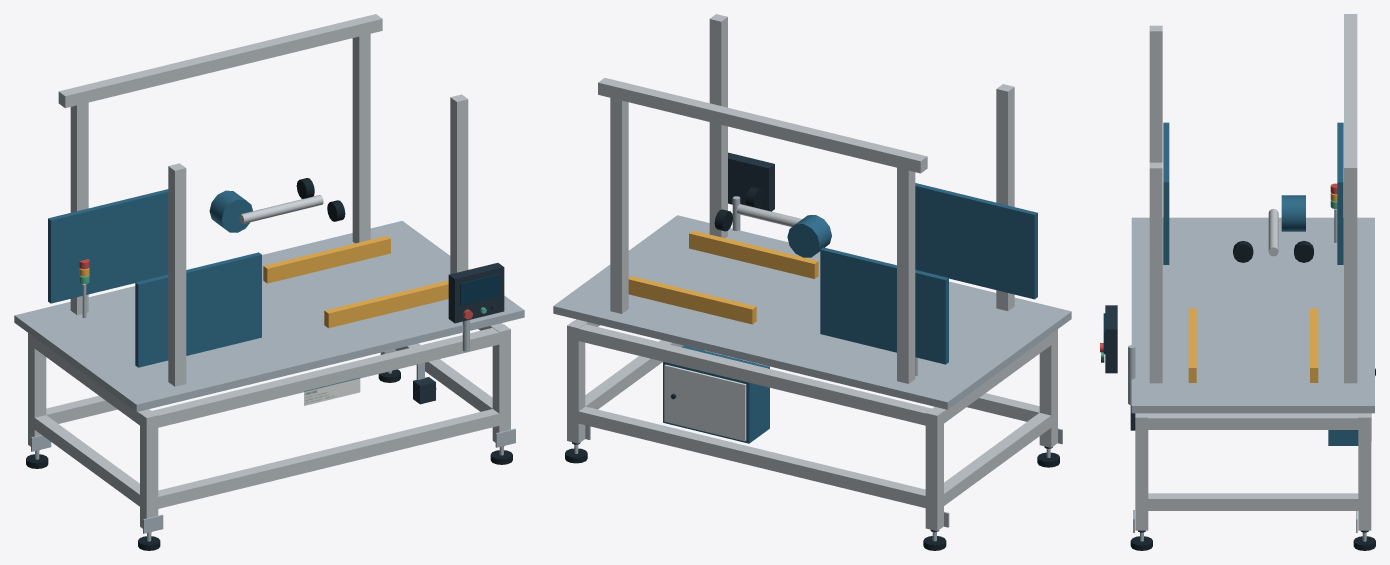
The model's file is carton-erector.glb.
The picture shows the model from 3 angles, left to right: view 1: azimuth 30°, elevation 25°; view 2: azimuth 150°, elevation 25°; view 3: azimuth 270°, elevation 25°; orthographic projection. The views are drawn at different scales.
Parts seen in each view (by area): view 1: Worktop_31, BlankMagazine_37, BlankMagazine_38, Extrusion_22, Extrusion_23, Extrusion_36, Extrusion_33, Extrusion_34, Extrusion_35, Extrusion_24, LowerFlapGuide_43, LowerFlapGuide_44 (+12 smaller); view 2: Worktop_31, BlankMagazine_38, BlankMagazine_37, Extrusion_20, Extrusion_21, Extrusion_36, BackAccessDoor_29, Extrusion_34, Extrusion_32, Extrusion_35, Extrusion_24, Extrusion_33 (+12 smaller); view 3: Worktop_31, Extrusion_26, Extrusion_27, Extrusion_35, Extrusion_34, Extrusion_36, Extrusion_33, Extrusion_13, Extrusion_18, BlankMagazine_37, BlankMagazine_38, ArmDrive_42 (+8 smaller).
Boxes of the visible parts, left/top/right/bottom form: Worktop_31: left=14, top=221, right=524, bottom=411; BlankMagazine_37: left=48, top=189, right=168, bottom=303; BlankMagazine_38: left=135, top=252, right=261, bottom=367; Extrusion_22: left=152, top=409, right=504, bottom=509; Extrusion_23: left=152, top=327, right=504, bottom=428; Extrusion_36: left=58, top=14, right=382, bottom=108; Extrusion_33: left=168, top=163, right=186, bottom=386; Extrusion_34: left=352, top=28, right=370, bottom=243; Extrusion_35: left=450, top=94, right=468, bottom=274; Extrusion_24: left=31, top=415, right=143, bottom=508; LowerFlapGuide_43: left=263, top=236, right=390, bottom=283; LowerFlapGuide_44: left=324, top=280, right=448, bottom=328; Worktop_31: left=553, top=215, right=1071, bottom=409; BlankMagazine_38: left=915, top=183, right=1037, bottom=299; BlankMagazine_37: left=820, top=247, right=948, bottom=364; Extrusion_20: left=578, top=406, right=930, bottom=508; Extrusion_21: left=573, top=324, right=931, bottom=425; Extrusion_36: left=598, top=78, right=927, bottom=173; BackAccessDoor_29: left=664, top=364, right=746, bottom=441; Extrusion_34: left=610, top=92, right=628, bottom=313; Extrusion_32: left=897, top=161, right=915, bottom=383; Extrusion_35: left=709, top=14, right=727, bottom=237; Extrusion_24: left=940, top=412, right=1054, bottom=508; Extrusion_33: left=996, top=84, right=1014, bottom=310; Worktop_31: left=1131, top=217, right=1374, bottom=413; Extrusion_26: left=1142, top=493, right=1364, bottom=510; Extrusion_27: left=1142, top=413, right=1364, bottom=429; Extrusion_35: left=1149, top=162, right=1162, bottom=383; Extrusion_34: left=1344, top=180, right=1357, bottom=383; Extrusion_36: left=1344, top=14, right=1357, bottom=179; Extrusion_33: left=1149, top=25, right=1162, bottom=162; Extrusion_13: left=1358, top=413, right=1371, bottom=530; Extrusion_18: left=1135, top=413, right=1148, bottom=530; BlankMagazine_37: left=1337, top=122, right=1343, bottom=264; BlankMagazine_38: left=1163, top=122, right=1169, bottom=264; ArmDrive_42: left=1281, top=195, right=1305, bottom=231.
Size of the model in its own units: 2.2 by 2.01 by 1.36.
11 materials, 1 textured.
